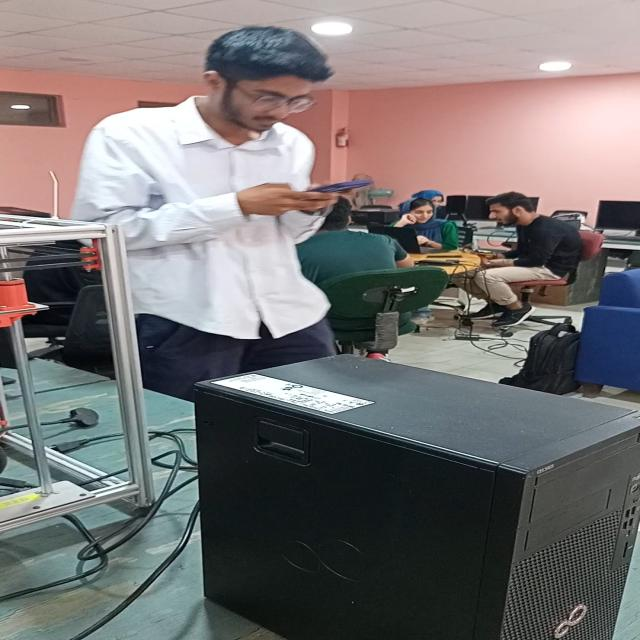dress: (74, 95, 354, 361)
